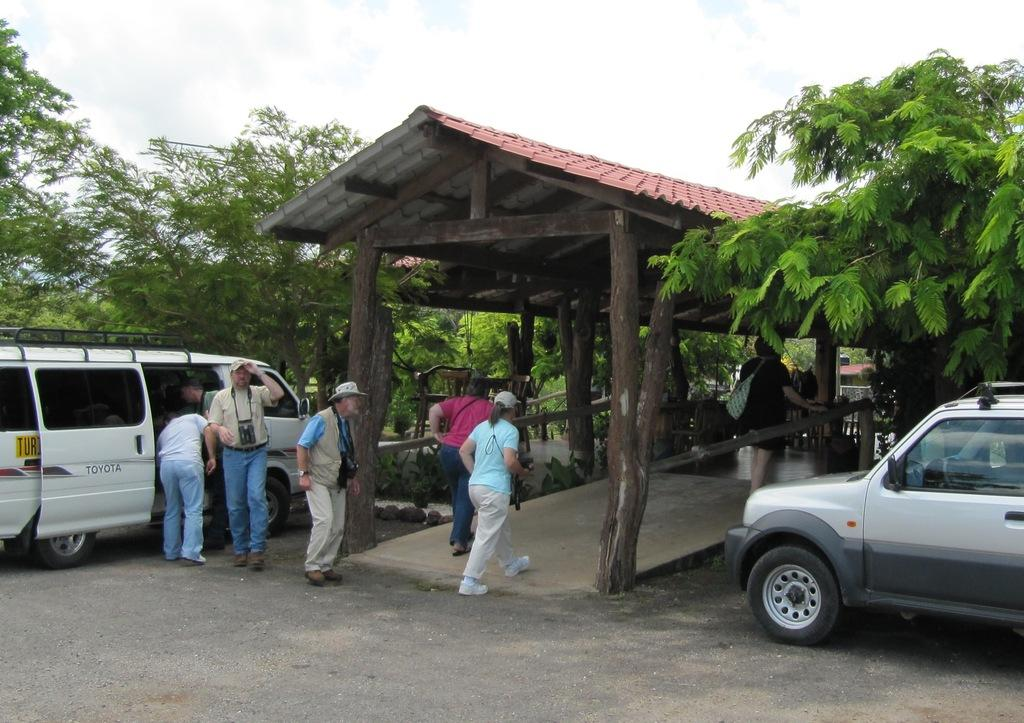vehicle: (724, 378, 1024, 645), (0, 328, 316, 569)
